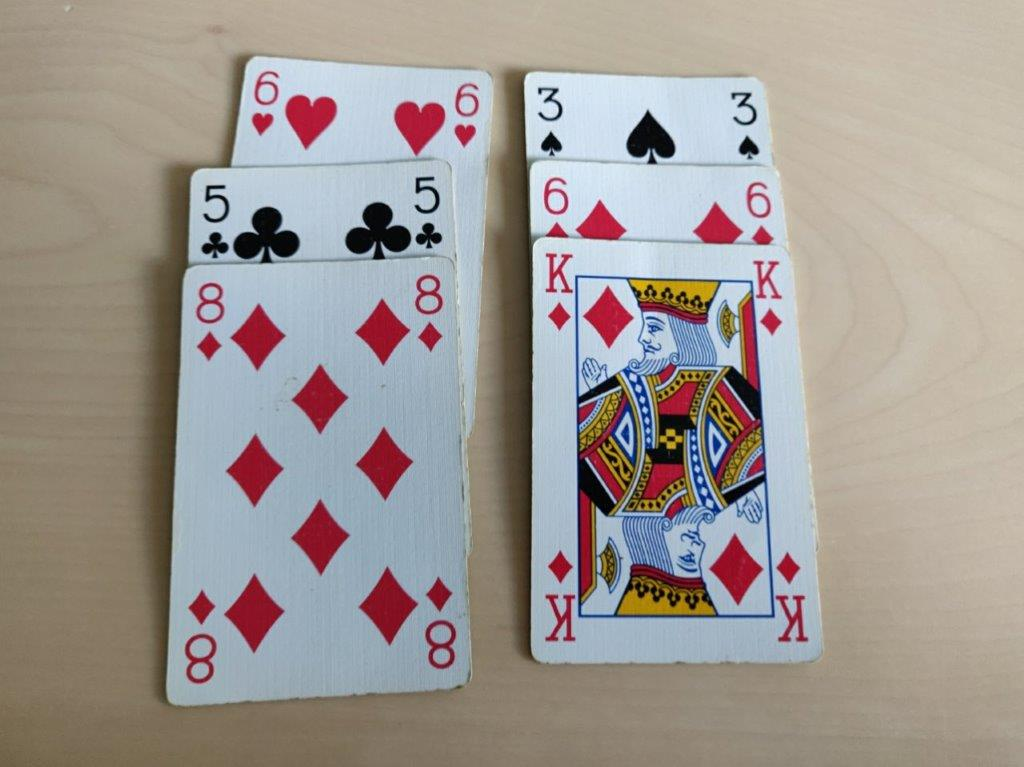3S: (532, 78, 568, 162), (728, 84, 764, 168)
5C: (199, 179, 234, 260), (409, 168, 444, 249)
6H: (249, 67, 284, 138), (450, 78, 485, 149)
8D: (193, 276, 228, 365), (412, 267, 447, 356)
KD: (539, 249, 579, 334), (749, 254, 789, 339)
